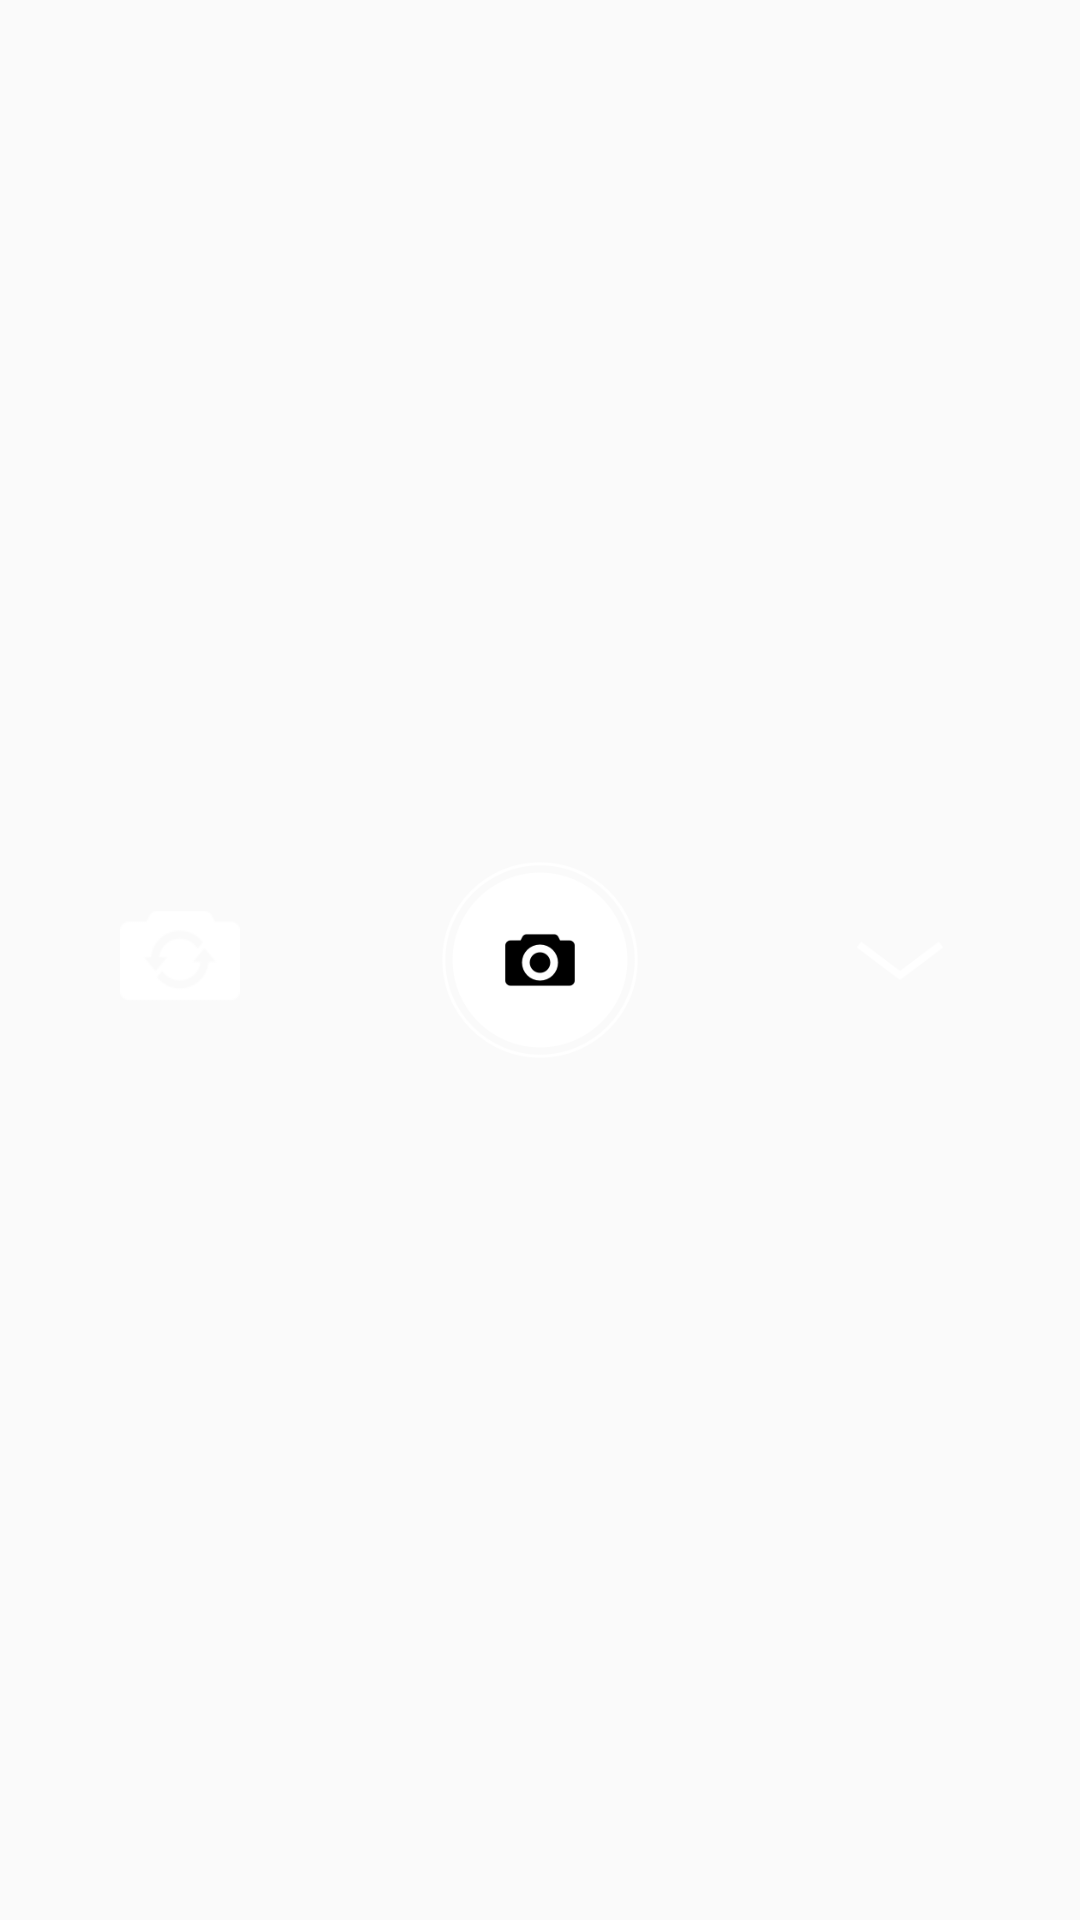

Named icons in this screenshot (1080*1920) and their centers, [x,y]:
capture: [540,960]
